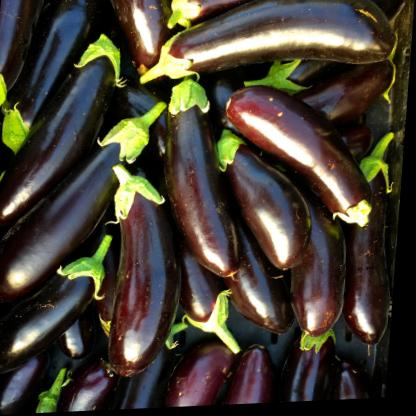--: (0, 98, 173, 305), (216, 80, 383, 238), (0, 34, 123, 233), (99, 151, 193, 400), (134, 0, 400, 86), (156, 77, 262, 290)
